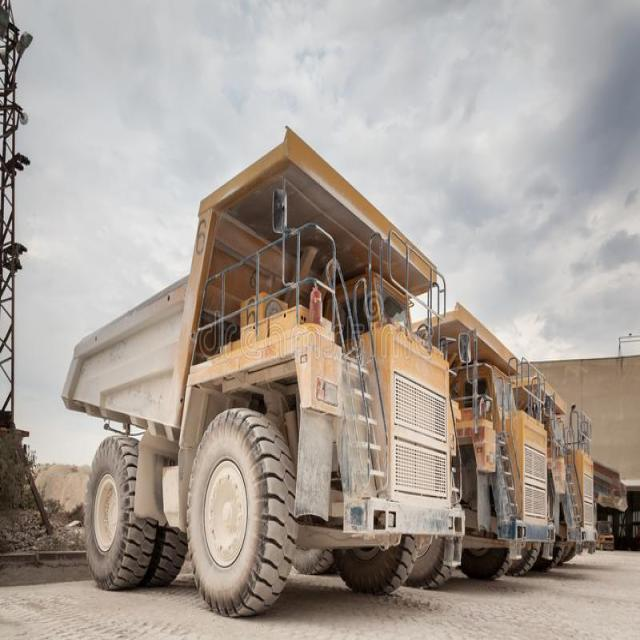Camion volquete: (58, 121, 470, 620), (407, 294, 556, 591), (514, 365, 600, 578)
pala cargadora: (596, 519, 614, 551)
